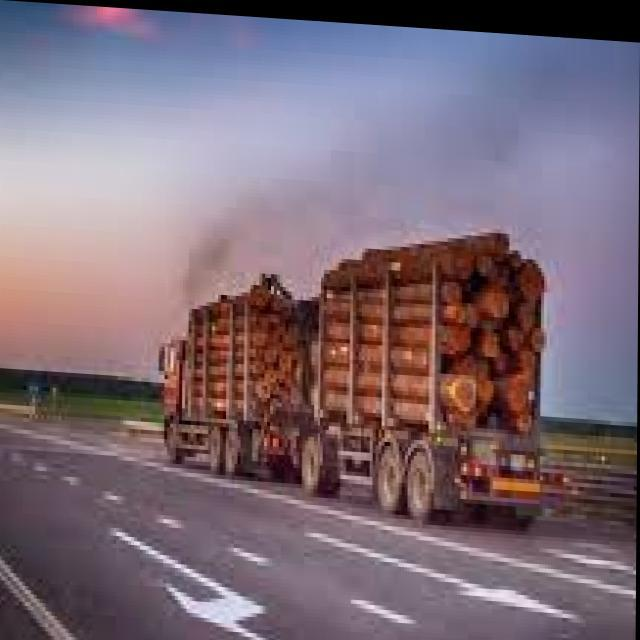uncovered: (162, 228, 540, 523)
